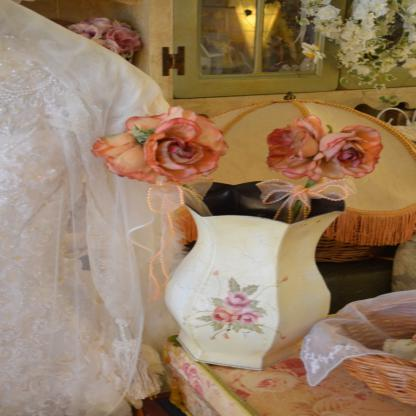vase: (161, 178, 330, 370)
